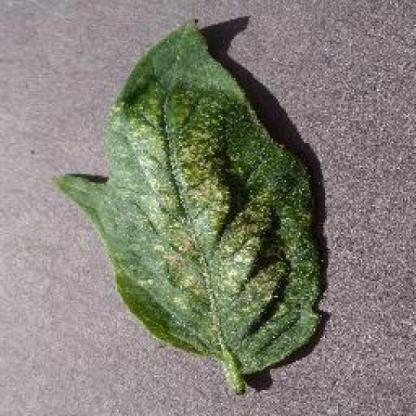Tomato_Spider_Mites: (55, 19, 324, 372)
